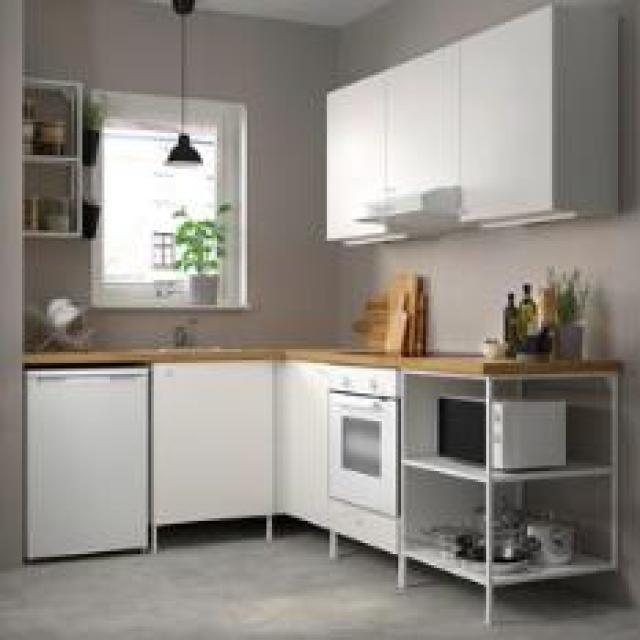dishwasher: (22, 363, 146, 557)
